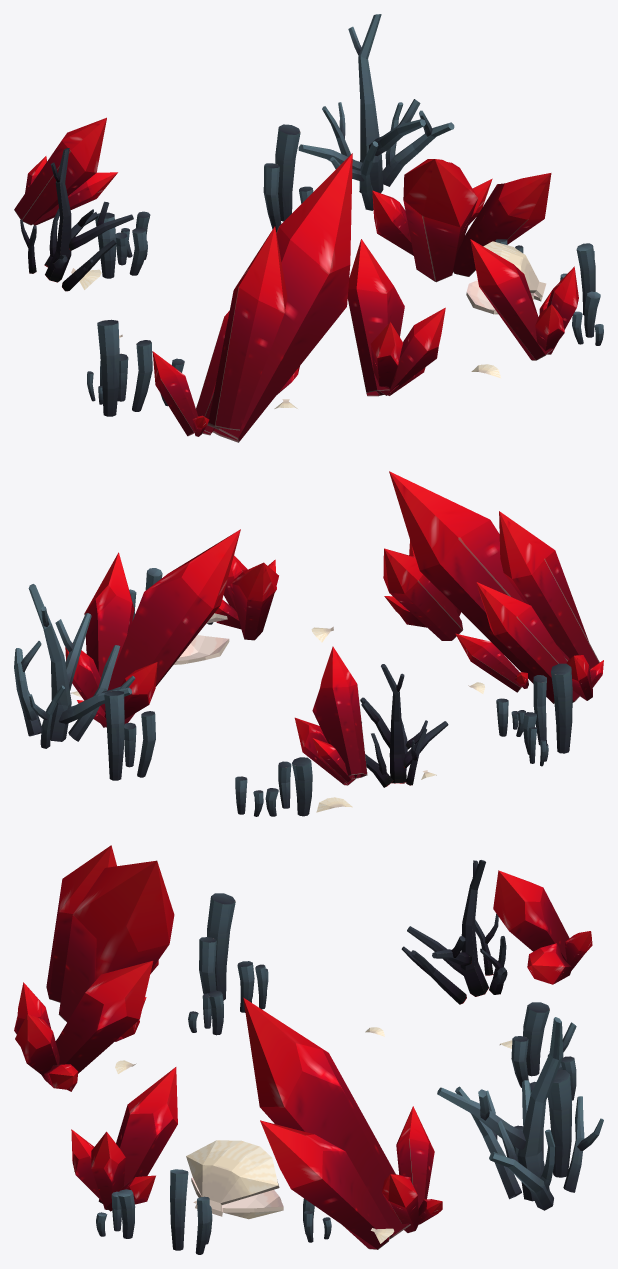
File: TheDeepSea_Decoration_withCrystal.fbx
The picture shows the model from 3 angles, top to bottom: view 1: azimuth 30°, elevation 25°; view 2: azimuth 150°, elevation 25°; view 3: azimuth 270°, elevation 25°; orthographic projection. The views are drawn at different scales.
Parts seen in each view (by area): view 1: TheDeepSea_Decoration_withCrystal; view 2: TheDeepSea_Decoration_withCrystal; view 3: TheDeepSea_Decoration_withCrystal.
Part boxes in pixels (x1,y1,x2,y2): TheDeepSea_Decoration_withCrystal: [14, 14, 603, 442]; TheDeepSea_Decoration_withCrystal: [14, 471, 603, 816]; TheDeepSea_Decoration_withCrystal: [14, 845, 603, 1254].
Bounding box in the file's own units: 1088 × 533 × 1022.
